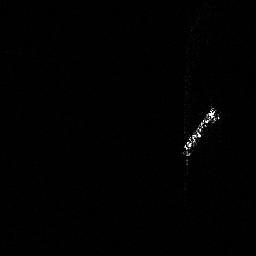ship: (181, 104, 222, 163)
